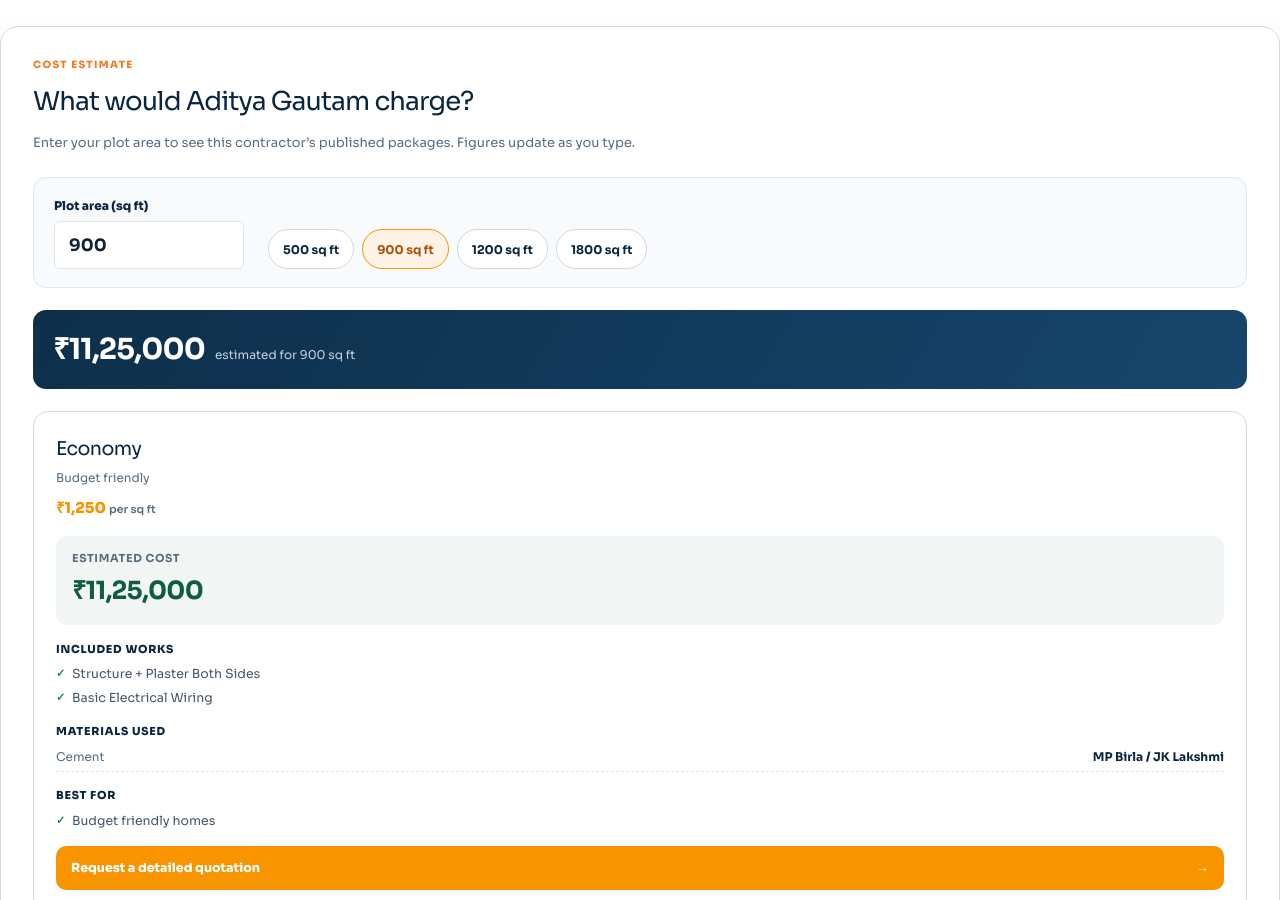
Test: PackageCalculator › recalculates from a quick-pick chip
The image size is (1280, 900).
What coordinates should you click on to do the following:
click the button "1200 sq ft"
I would click on:
 (502, 249)
Its box is top-left (457, 229), bottom-right (548, 269).
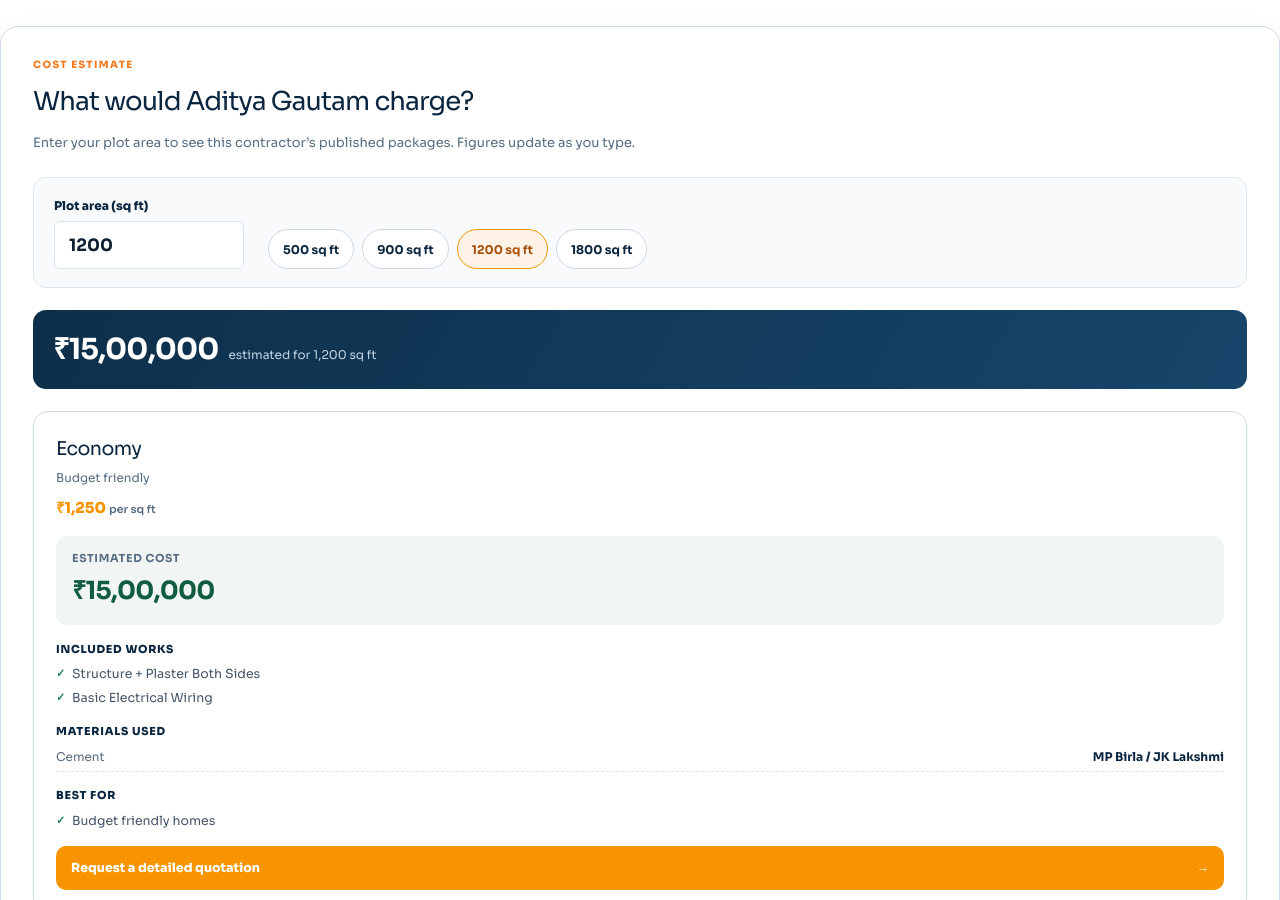
Expected: the text "₹15,00,000" below "Estimated cost" is shown, top-left (72, 575), bottom-right (215, 606)
